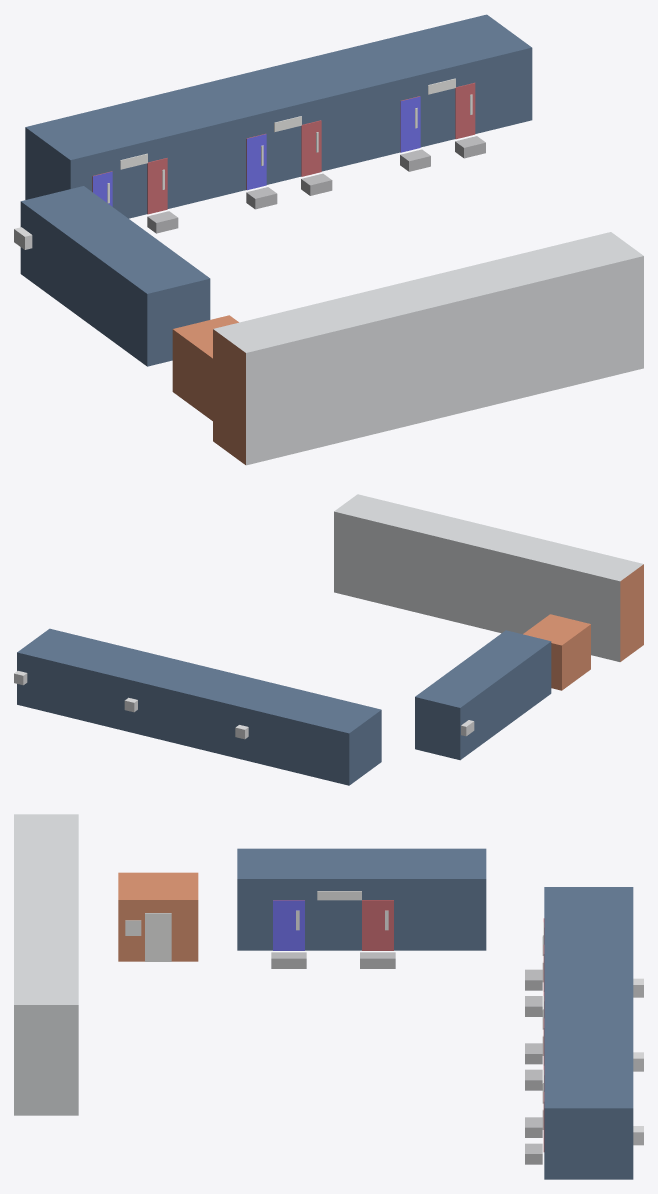
Rendered from toilet.glb.
3 renders of one model, top to bottom at view 1: azimuth 30°, elevation 25°; view 2: azimuth 150°, elevation 25°; view 3: azimuth 270°, elevation 25°, orthographic. The views are drawn at different scales.
Visible parts, largest first — view 1: Geom3D (×12); view 2: Geom3D (×7); view 3: Geom3D (×11).
Part boxes in pixels (box(x1,y1,x2,y2)): Geom3D (×12): box(20, 14, 643, 465); Geom3D (×7): box(17, 494, 643, 785); Geom3D (×11): box(14, 814, 633, 1179).
Bounding box in the file's own units: 27.28 × 5.27 × 27.24.
